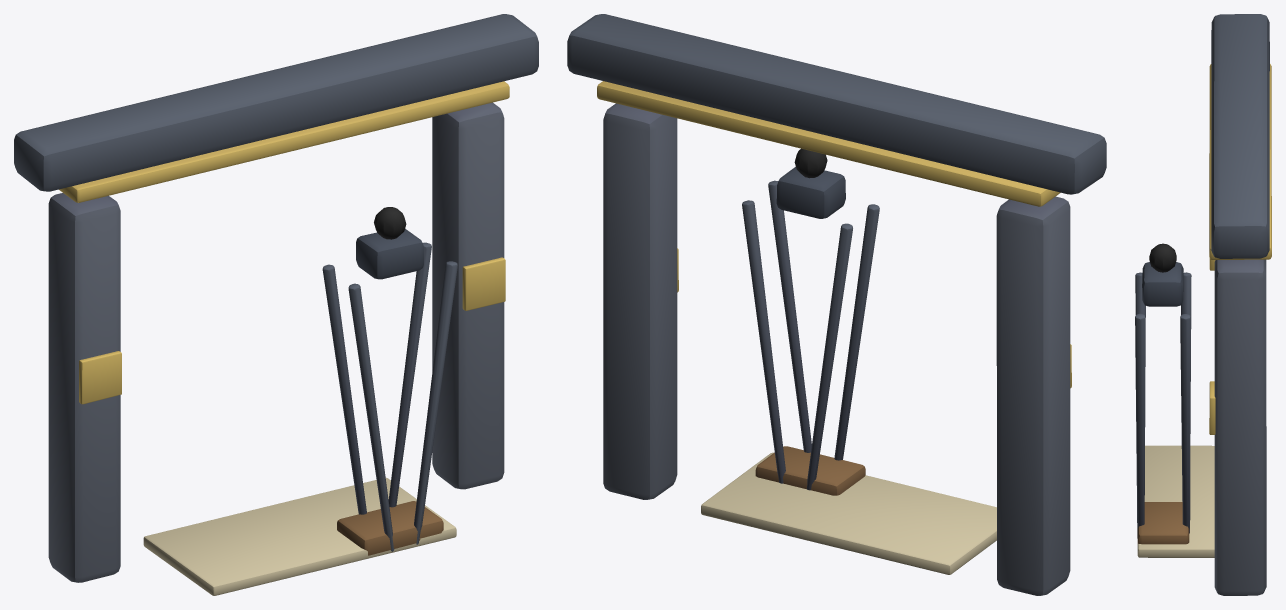
The picture shows the model from 3 angles, left to right: view 1: azimuth 30°, elevation 25°; view 2: azimuth 150°, elevation 25°; view 3: azimuth 270°, elevation 25°; orthographic projection. The views are drawn at different scales.
Parts seen in each view (by area): view 1: gate_05e68182; view 2: gate_05e68182; view 3: gate_05e68182.
Boxes of the visible parts, x1,y1,x2,y2 form: gate_05e68182: (14, 14, 538, 595); gate_05e68182: (567, 14, 1106, 595); gate_05e68182: (1135, 14, 1271, 595).
Size of the model in its own units: 4.92 by 4.17 by 1.33.
